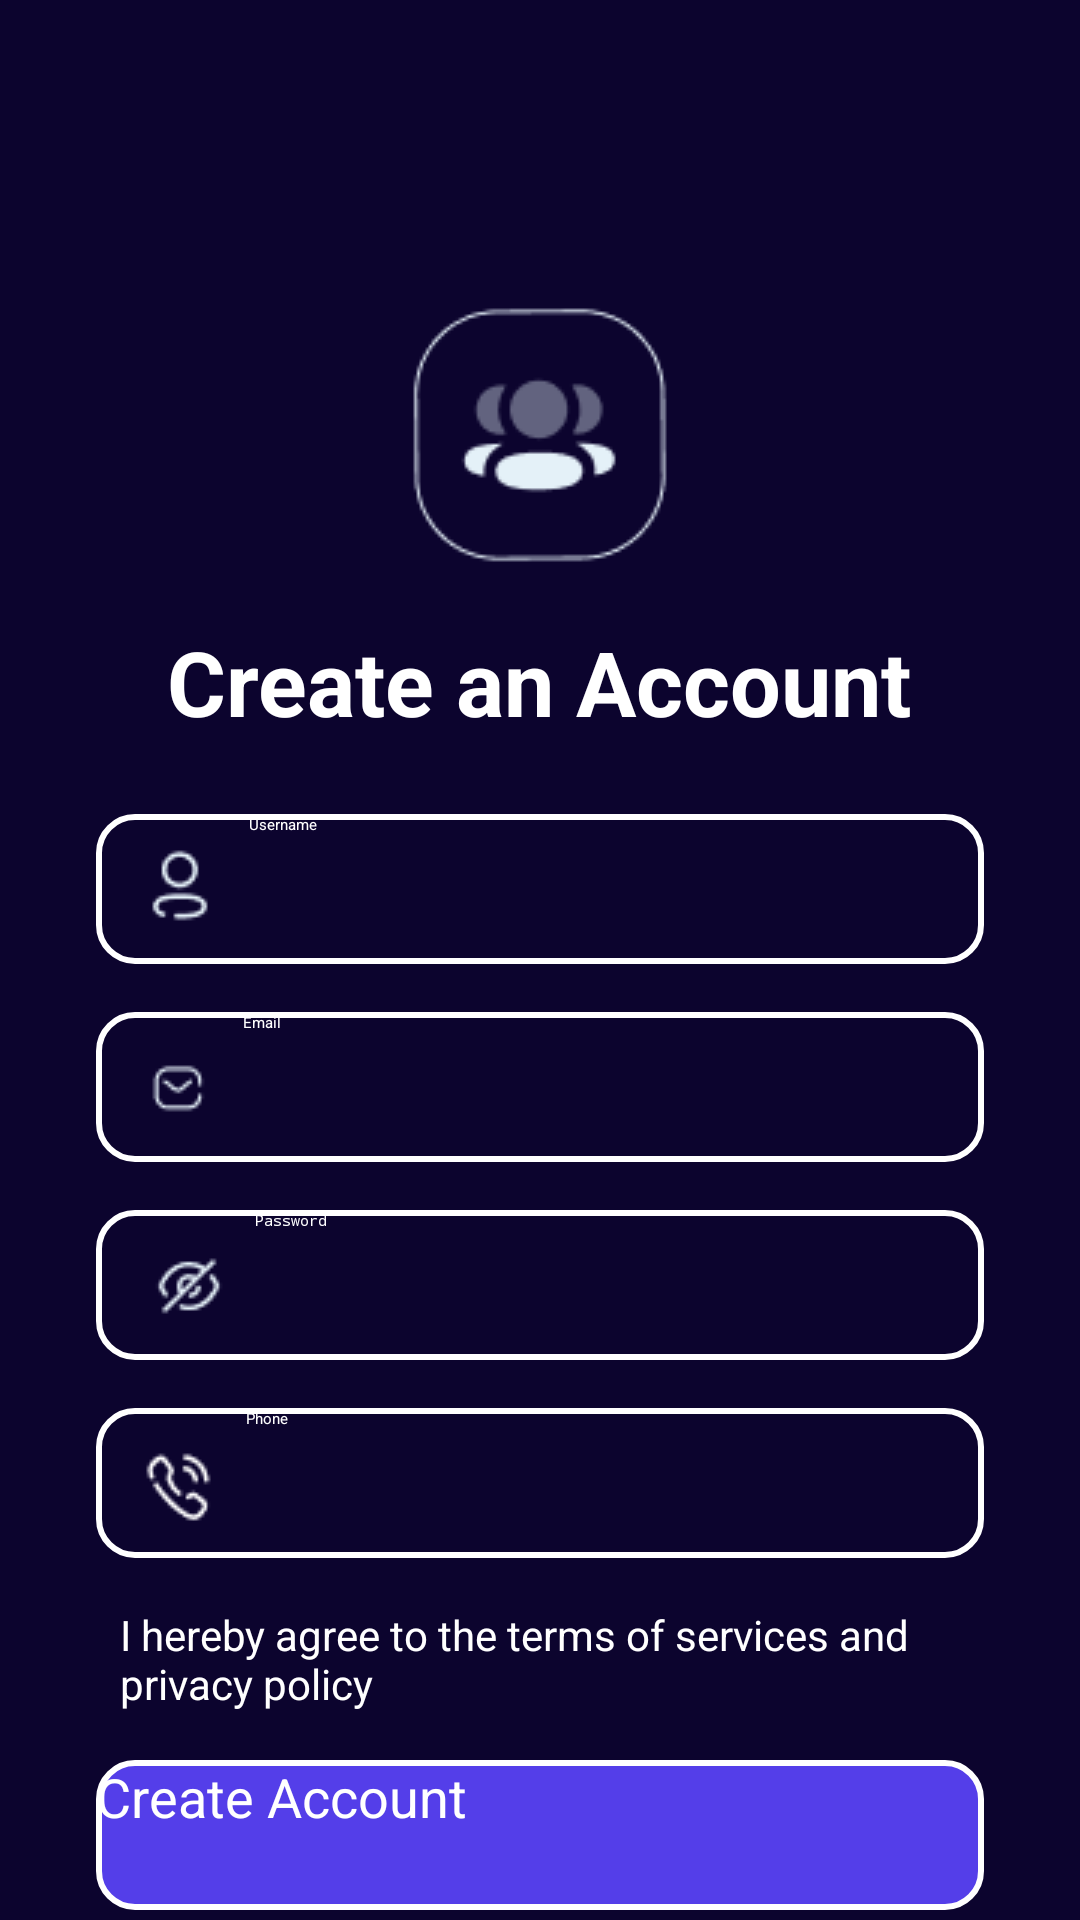

Where icons sit on this 1080×1920 app screen, as (x1, y1, x2, y2):
people: (413, 308, 667, 562)
